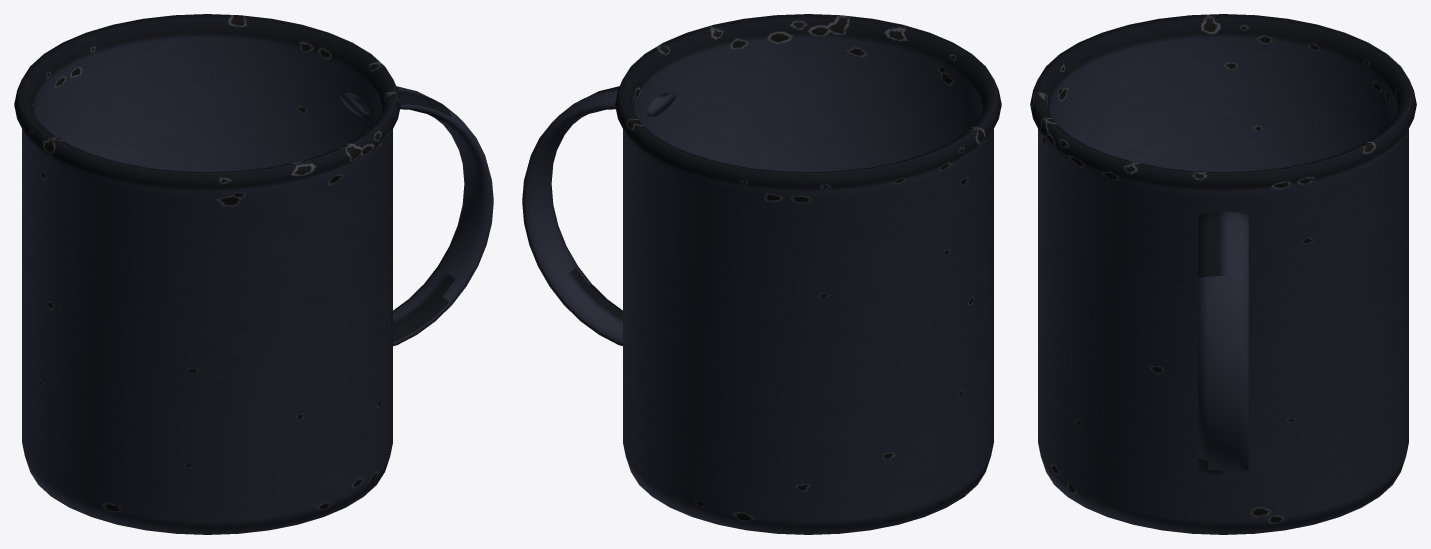
Rendered from tin-mug.glb.
3 views of the same model, side by side, from view 1: azimuth 30°, elevation 25°; view 2: azimuth 150°, elevation 25°; view 3: azimuth 270°, elevation 25° (orthographic).
Parts seen in each view (by area): view 1: tin-mug-body; view 2: tin-mug-body; view 3: tin-mug-body.
Part boxes in pixels (left/top/right/bottom): tin-mug-body: left=14, top=14, right=493, bottom=534; tin-mug-body: left=522, top=14, right=1001, bottom=534; tin-mug-body: left=1030, top=14, right=1416, bottom=534.
Size of the model in its own units: 0.1166 by 0.0912 by 0.0876.
Materials: 2 (1 with a texture image).
